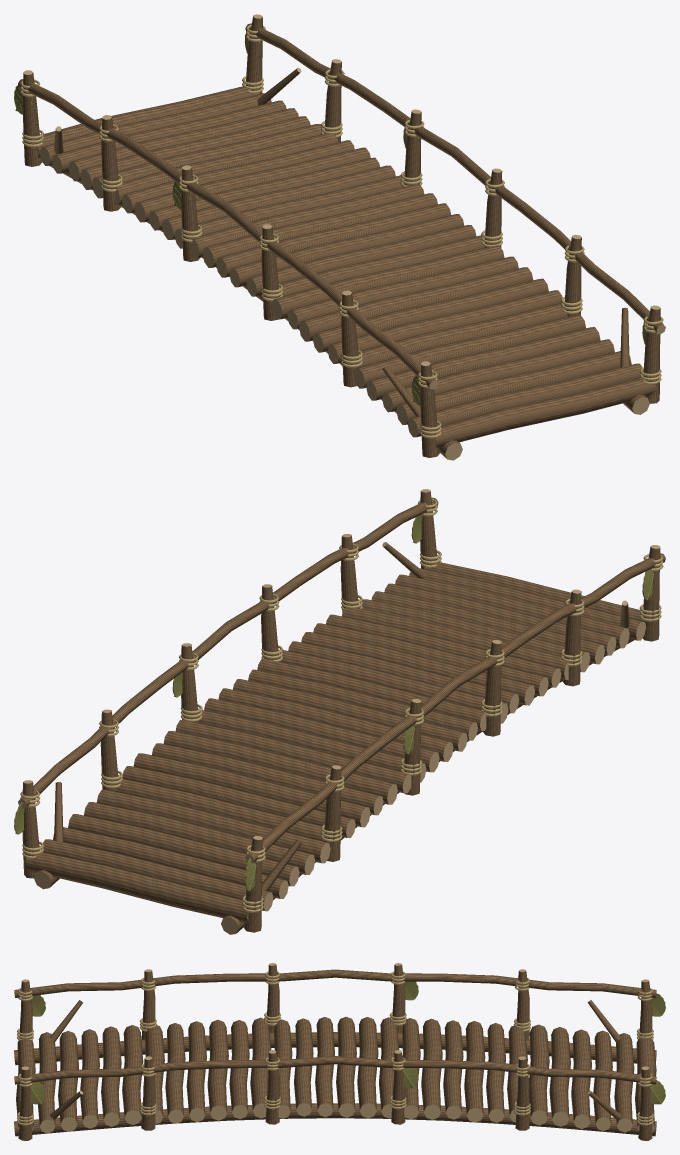
The picture shows the model from 3 angles, top to bottom: view 1: azimuth 30°, elevation 25°; view 2: azimuth 150°, elevation 25°; view 3: azimuth 270°, elevation 25°; orthographic projection. The views are drawn at different scales.
Parts seen in each view (by area): view 1: Crosswise split twig 00; view 2: Crosswise split twig 00; view 3: Crosswise split twig 00.
Boxes of the visible parts, <box> form: Crosswise split twig 00: <box>14,14,665,460</box>; Crosswise split twig 00: <box>14,489,665,934</box>; Crosswise split twig 00: <box>14,963,665,1140</box>.
Bounding box in the file's own units: 8.25 × 3.83 × 24.4.
Materials: 4 (1 with a texture image).
